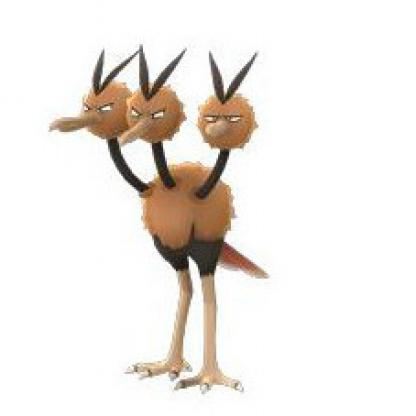Dodrio: (50, 32, 274, 399)
